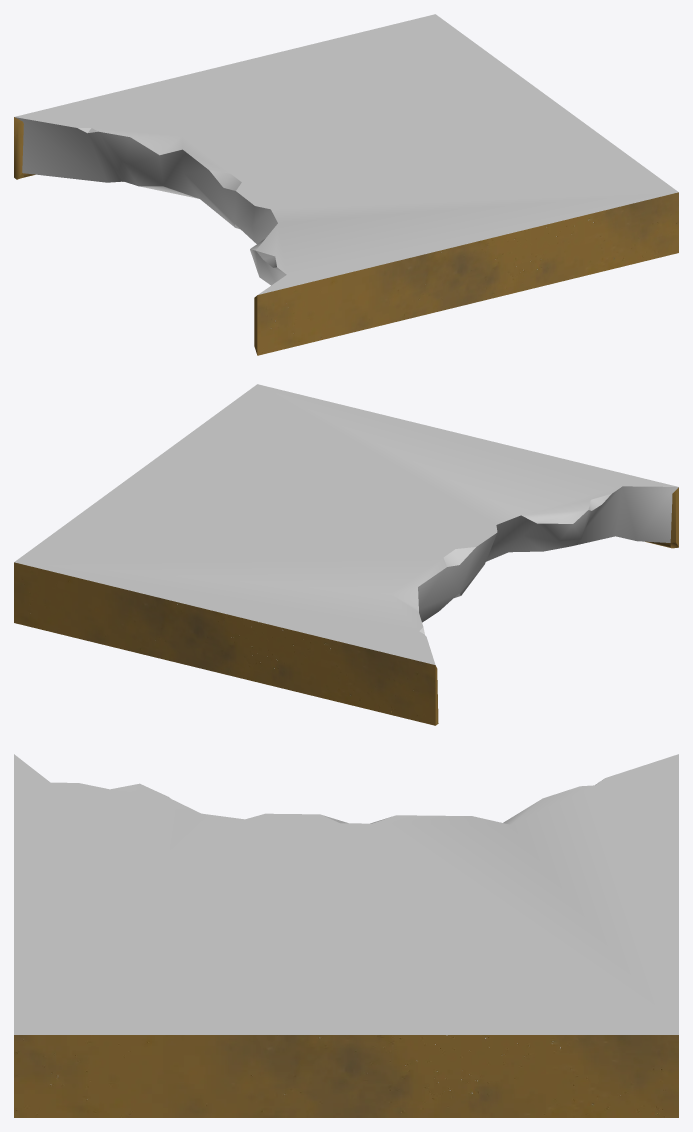
3 renders of one model, top to bottom at view 1: azimuth 30°, elevation 25°; view 2: azimuth 150°, elevation 25°; view 3: azimuth 270°, elevation 25°, orthographic. The views are drawn at different scales.
Visible parts, largest first — view 1: SM_Vault_4x4_Ceiling_Dmg_04_LOD0; view 2: SM_Vault_4x4_Ceiling_Dmg_04_LOD0; view 3: SM_Vault_4x4_Ceiling_Dmg_04_LOD0.
Part boxes in pixels (bbox=[...]): SM_Vault_4x4_Ceiling_Dmg_04_LOD0: bbox=[14, 14, 678, 355]; SM_Vault_4x4_Ceiling_Dmg_04_LOD0: bbox=[14, 384, 678, 725]; SM_Vault_4x4_Ceiling_Dmg_04_LOD0: bbox=[14, 754, 678, 1117].
Bounding box in the file's own units: 4 × 0.5675 × 4.
